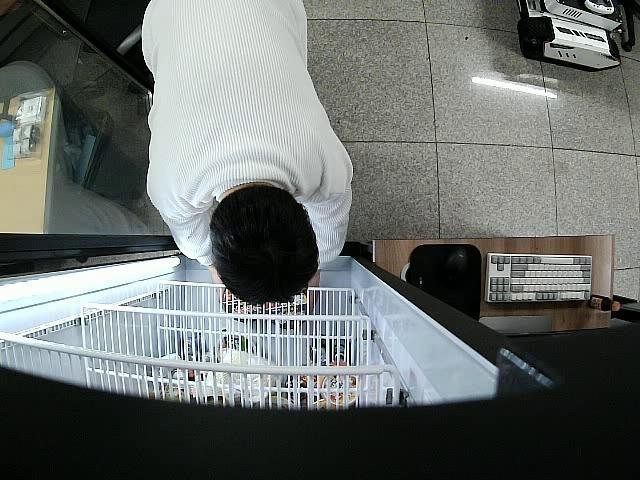07_buldak_L: (265, 291, 311, 328), (222, 284, 262, 322)
